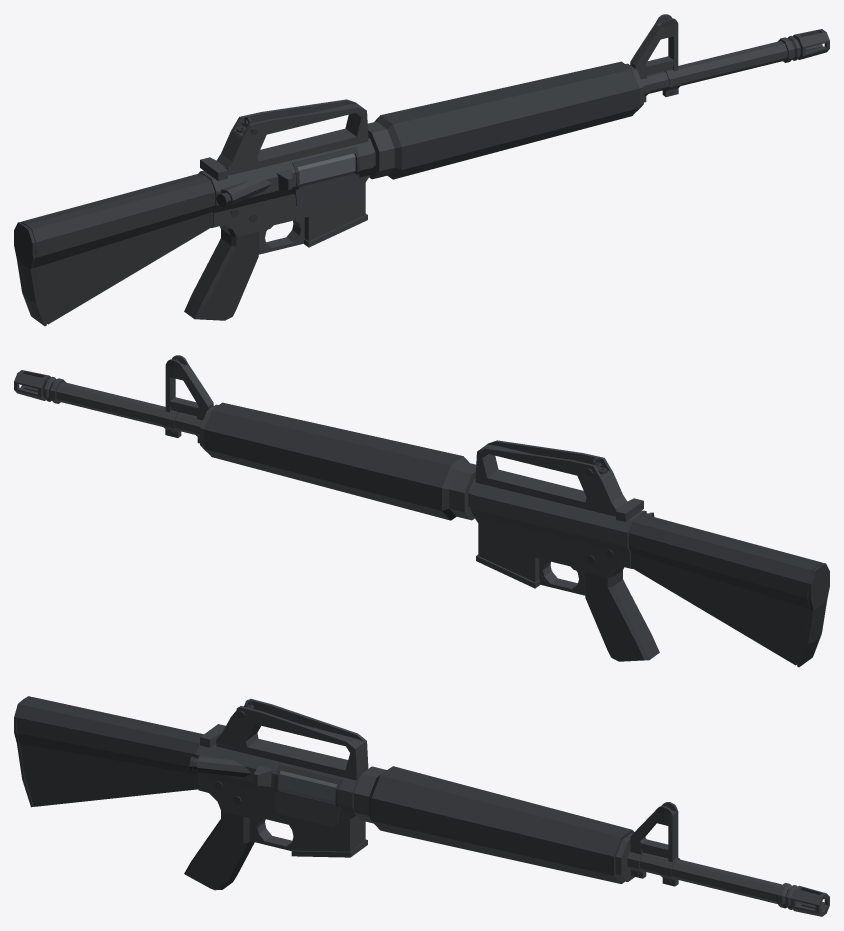
File: AssaultRifle5_03.fbx
The picture shows the model from 3 angles, top to bottom: view 1: azimuth 30°, elevation 25°; view 2: azimuth 150°, elevation 25°; view 3: azimuth 330°, elevation 25°; orthographic projection.
Visible parts, largest first — view 1: AssaultRifle5_03; view 2: AssaultRifle5_03; view 3: AssaultRifle5_03.
Part boxes in pixels (bbox=[...]): AssaultRifle5_03: bbox=[14, 14, 829, 326]; AssaultRifle5_03: bbox=[14, 355, 829, 667]; AssaultRifle5_03: bbox=[14, 696, 829, 916].
Bounding box in the file's own units: 1.04 × 0.2381 × 0.0756.
